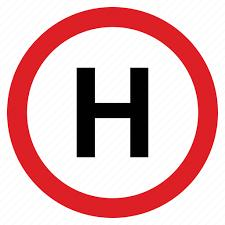Hospital: (16, 13, 211, 213)
